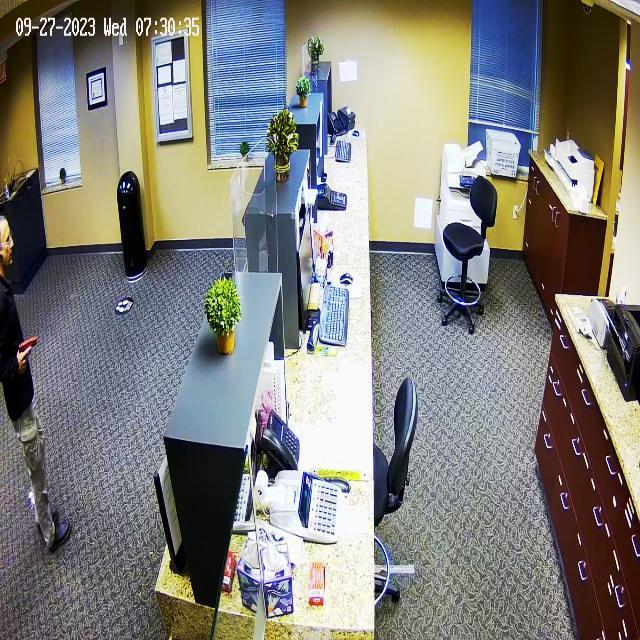Gun: (14, 320, 46, 369)
